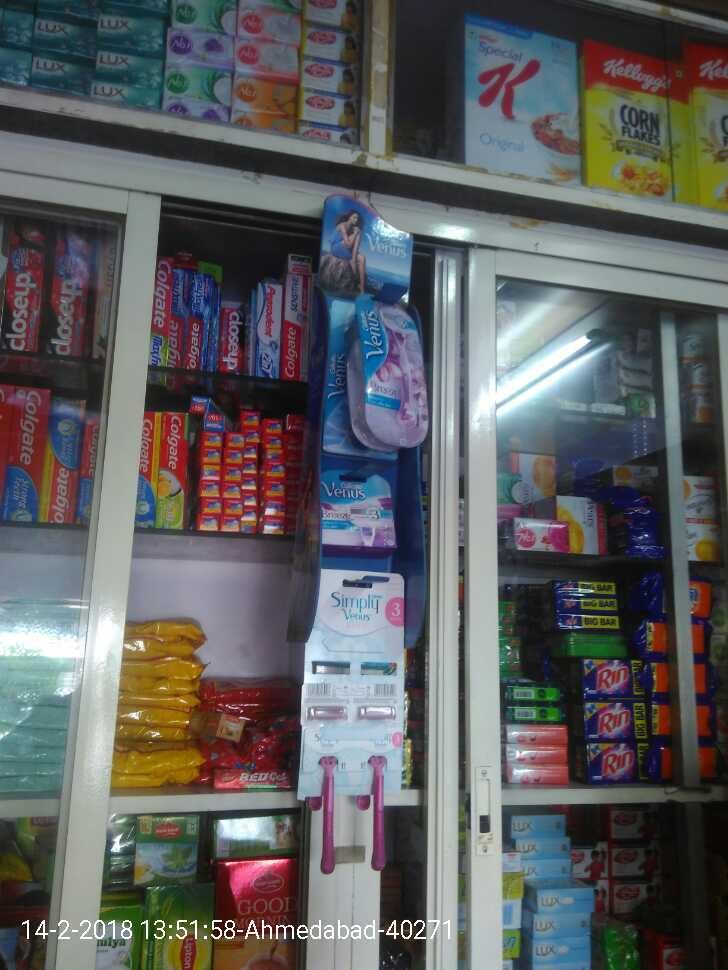venus: (346, 293, 450, 460), (316, 460, 403, 555)
